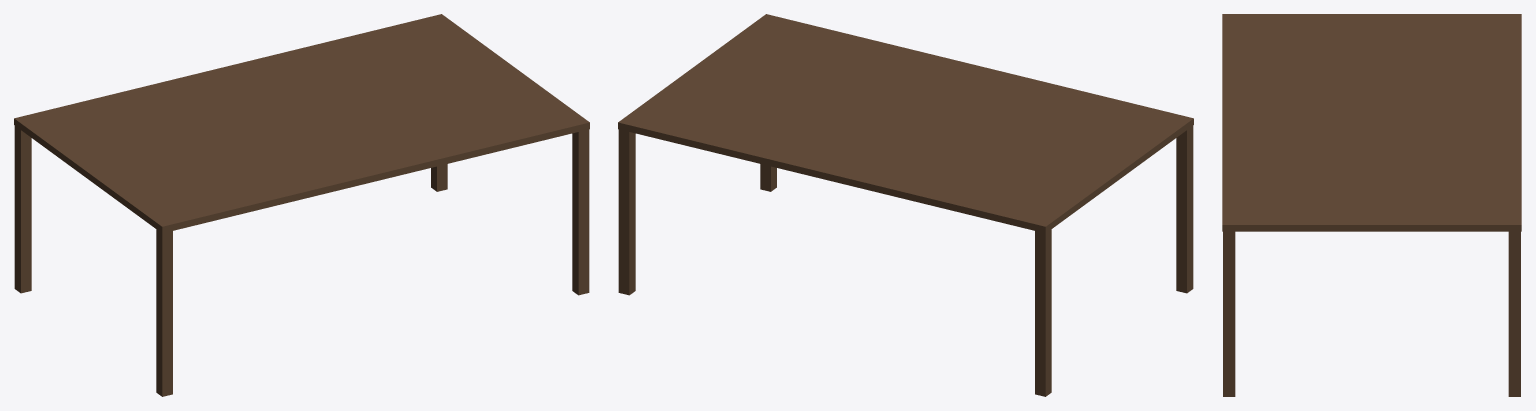
Rendered from Table.glb.
3 views of the same model, side by side, from view 1: azimuth 30°, elevation 25°; view 2: azimuth 150°, elevation 25°; view 3: azimuth 270°, elevation 25° (orthographic).
Visible parts, largest first — view 1: Cube, Cube.001; view 2: Cube, Cube.001; view 3: Cube, Cube.001.
Part boxes in pixels (x1,y1,x2,y2): Cube: (14, 14, 589, 233); Cube.001: (14, 126, 589, 396); Cube: (618, 14, 1193, 233); Cube.001: (618, 126, 1193, 396); Cube: (1222, 14, 1521, 231); Cube.001: (1223, 231, 1520, 396).
Bounding box in the file's own units: 2 × 0.7619 × 1.2.
